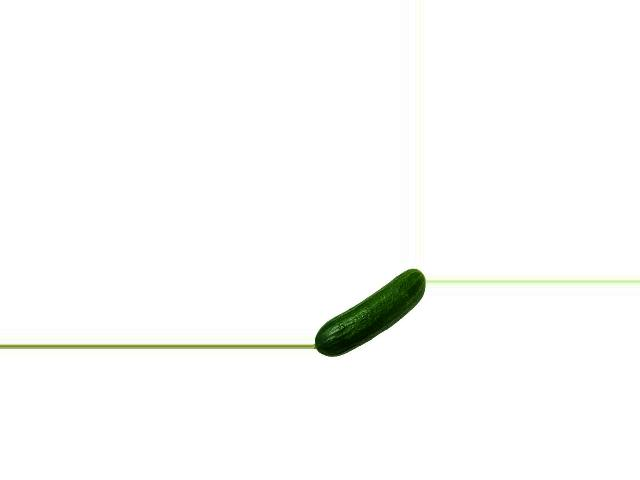cucumber: (313, 269, 426, 357)
